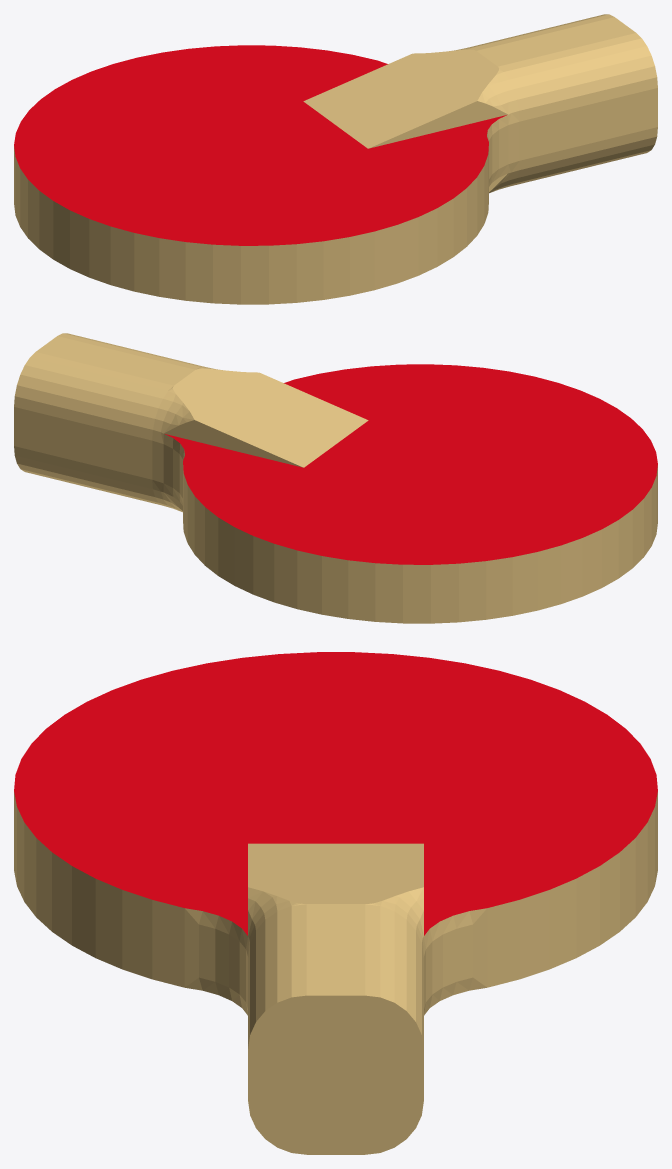
File: 탁구체.fbx
3 views of the same model, one above another, from view 1: azimuth 30°, elevation 25°; view 2: azimuth 150°, elevation 25°; view 3: azimuth 270°, elevation 25° (orthographic). The views are drawn at different scales.
Parts seen in each view (by area): view 1: 탁구체; view 2: 탁구체; view 3: 탁구체.
Boxes of the visible parts, left/top/right/bottom form: 탁구체: left=14, top=14, right=657, bottom=304; 탁구체: left=14, top=333, right=657, bottom=623; 탁구체: left=14, top=652, right=657, bottom=1154.
Size of the model in its own units: 3097 by 600 by 2200.
